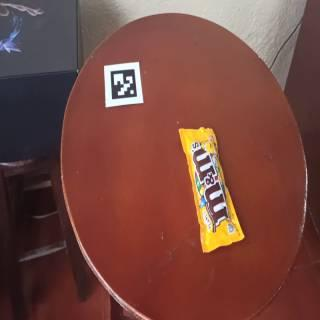chocolate: (181, 129, 252, 250)
